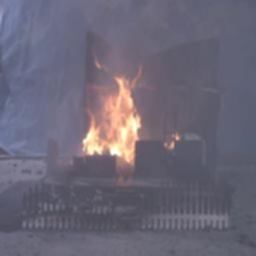fire: (87, 72, 140, 161)
